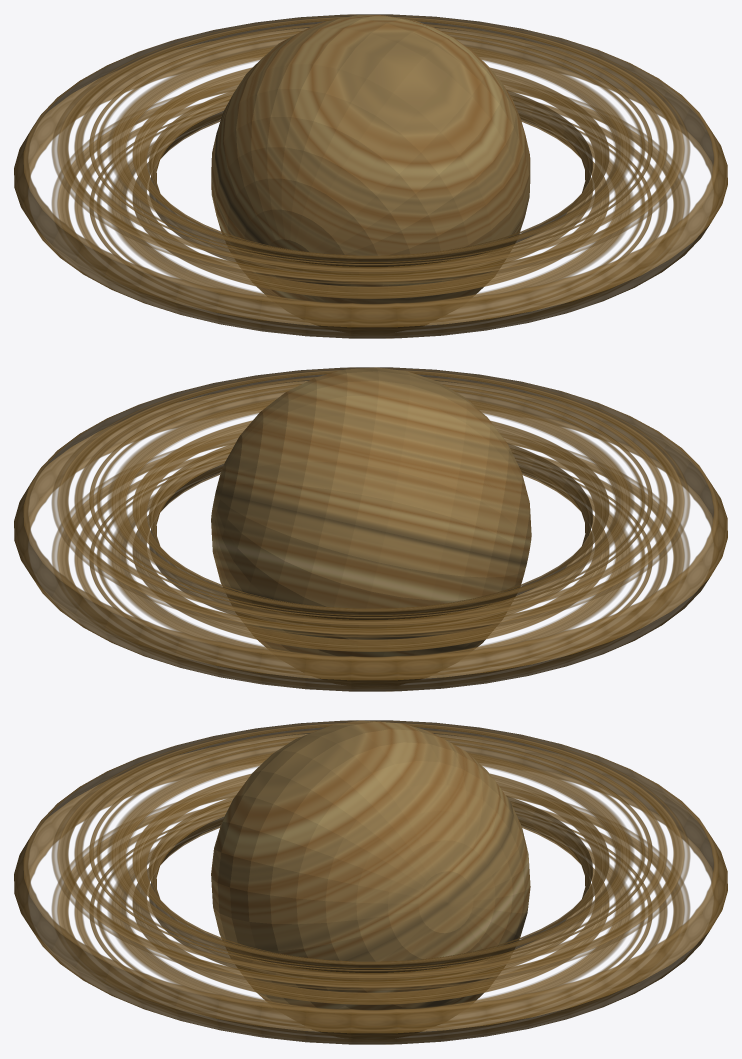
The model's file is saturn_torus.fbx.
3 views of the same model, one above another, from view 1: azimuth 30°, elevation 25°; view 2: azimuth 150°, elevation 25°; view 3: azimuth 270°, elevation 25° (orthographic).
Visible parts, largest first — view 1: Torus, Sphere; view 2: Torus, Sphere; view 3: Torus, Sphere.
Boxes of the visible parts, x1,y1,x2,y2 form: Torus: (14, 14, 727, 338); Sphere: (211, 15, 530, 332); Torus: (14, 367, 727, 691); Sphere: (211, 367, 531, 685); Torus: (14, 720, 727, 1044); Sphere: (211, 720, 530, 1038).
Bounding box in the file's own units: 1587 × 712 × 1587.
